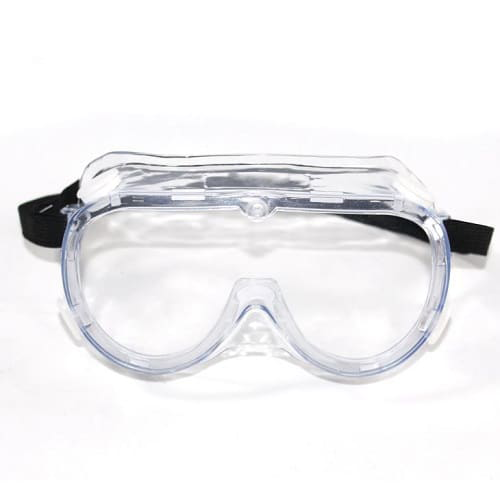Goggles: (58, 148, 458, 396)
